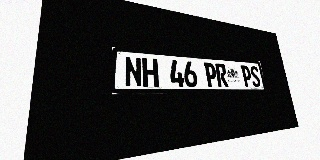4: (169, 60, 185, 87)
6: (183, 61, 198, 87)
H: (142, 58, 159, 87)
N: (124, 56, 142, 87)
P: (204, 62, 218, 87), (240, 65, 253, 87)
R: (215, 63, 229, 87)
S: (249, 66, 261, 87)
